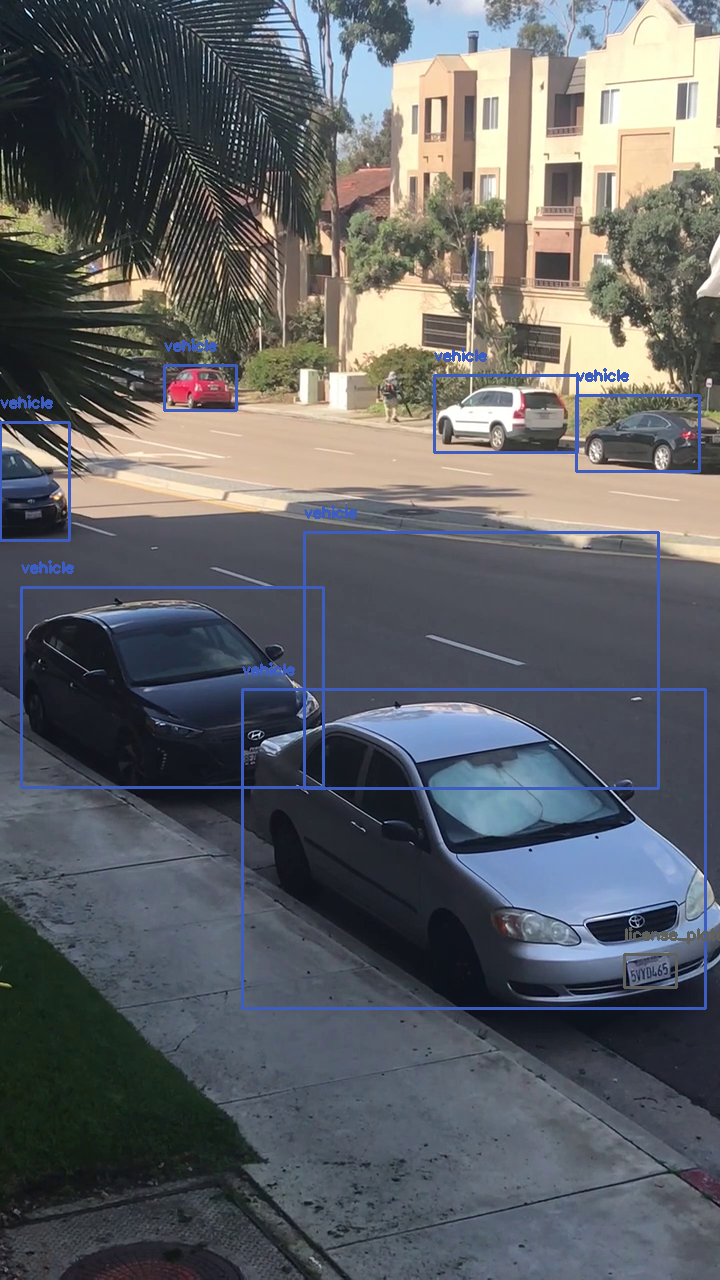license_plate: (624, 954, 676, 987)
vehicle: (242, 689, 705, 1008), (304, 532, 658, 788), (21, 587, 323, 787), (434, 375, 577, 452), (576, 395, 699, 471), (0, 422, 69, 540), (164, 365, 236, 410)
